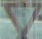Give way: (2, 1, 41, 36)
